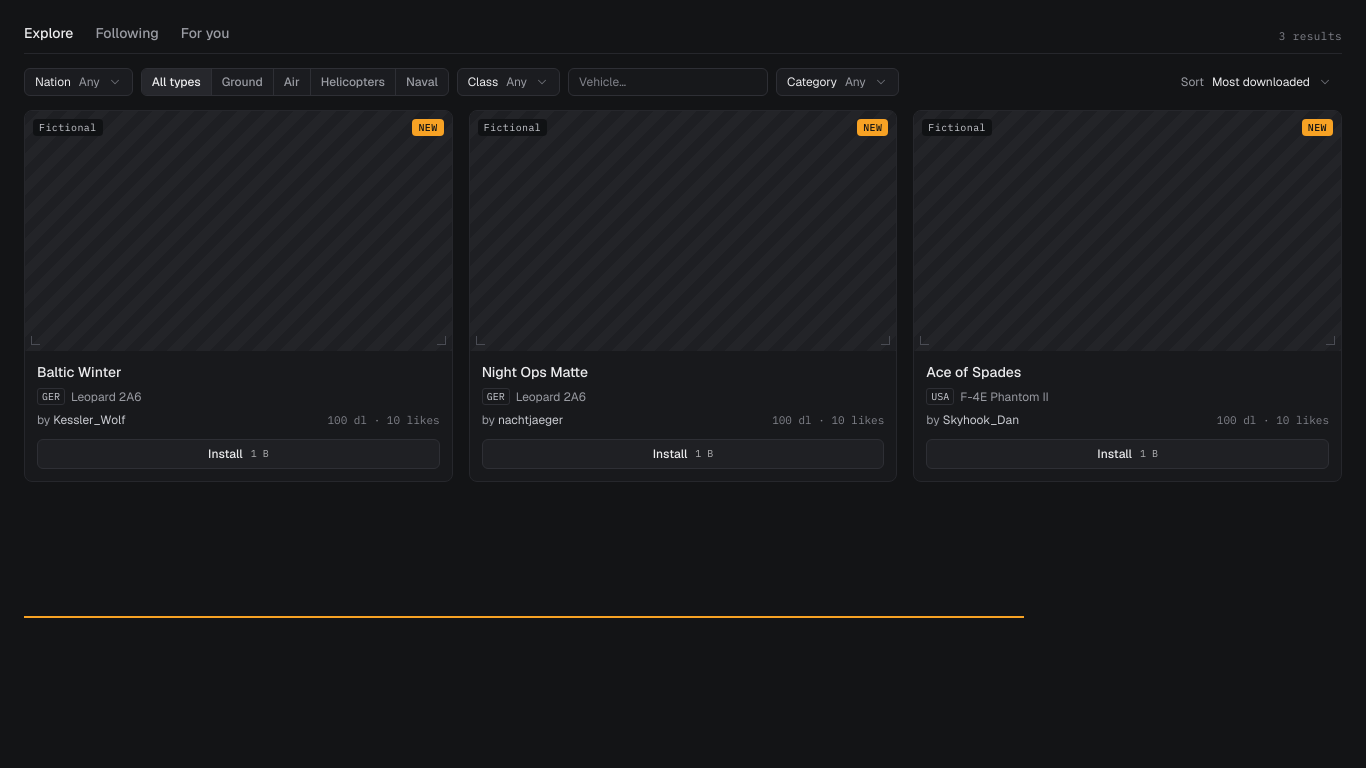
it: Following › leaving the tab marks everything seen and the pill goes away
Click the tab "Following" at [127, 36], box 95,18 -> 159,54
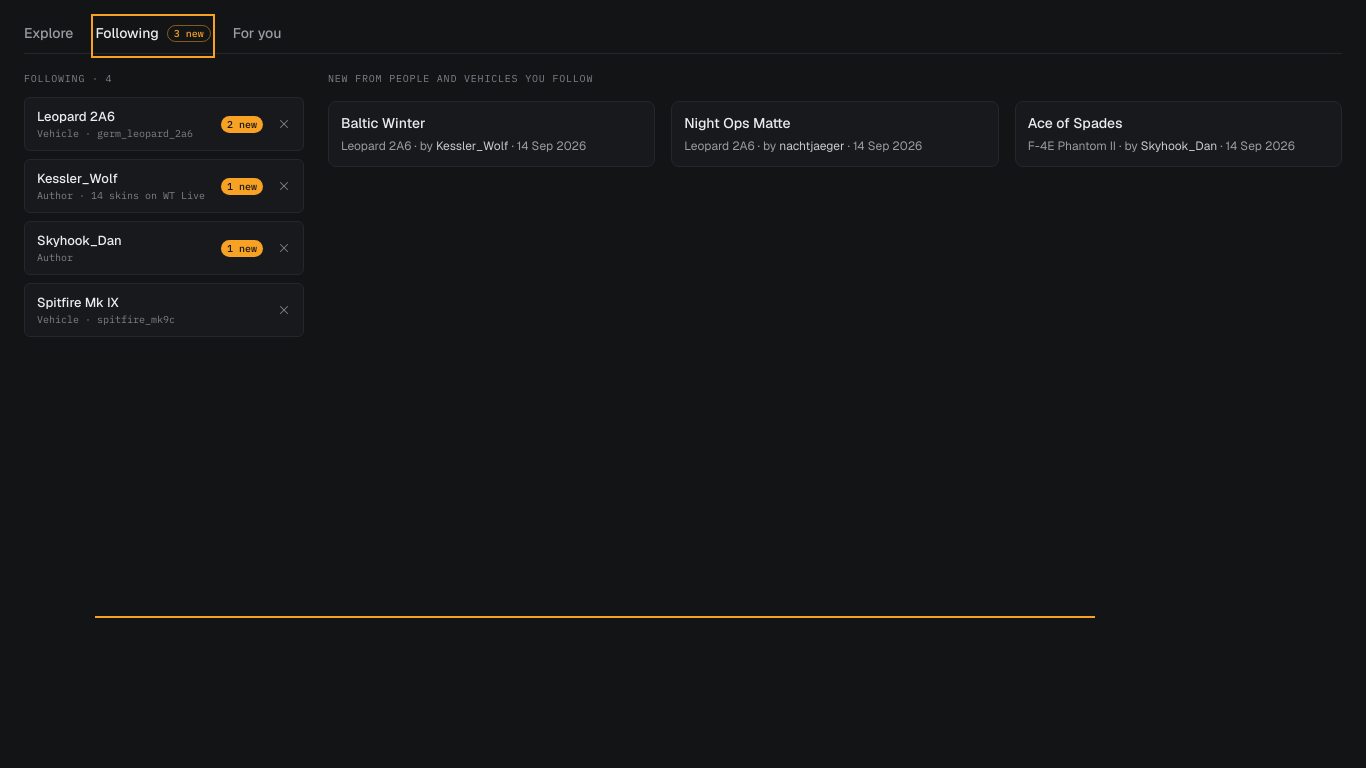
Check: the tab "Following 3 new" is shown, box 95,18 -> 211,54
Check: the button "Baltic Winter Leopard 2A6 · by Kessler_Wolf · 14 Sep 2026" is shown, box 328,101 -> 655,167
Note: Arrow keys move between the tabs (automatic activation).
Press Arrowleft
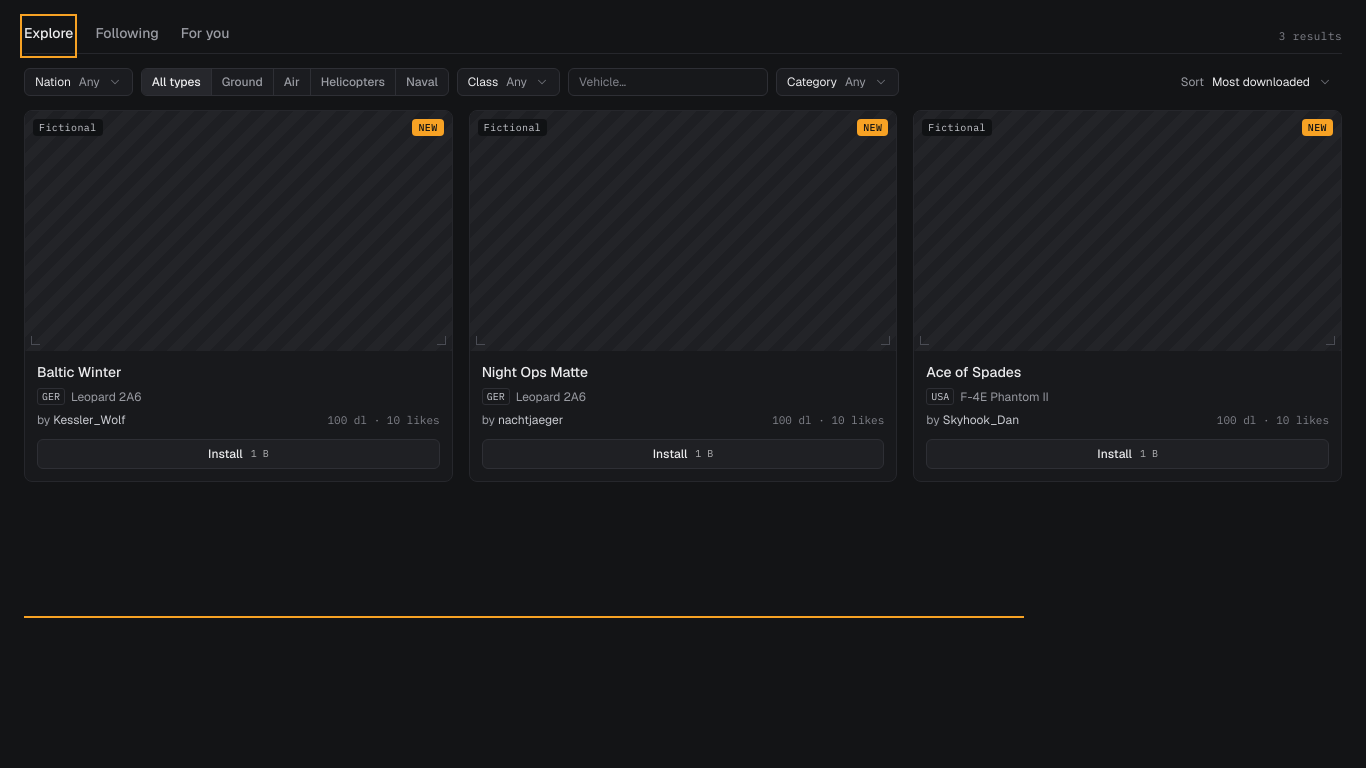
Check: the tab "Following" is shown, box 95,18 -> 159,54
